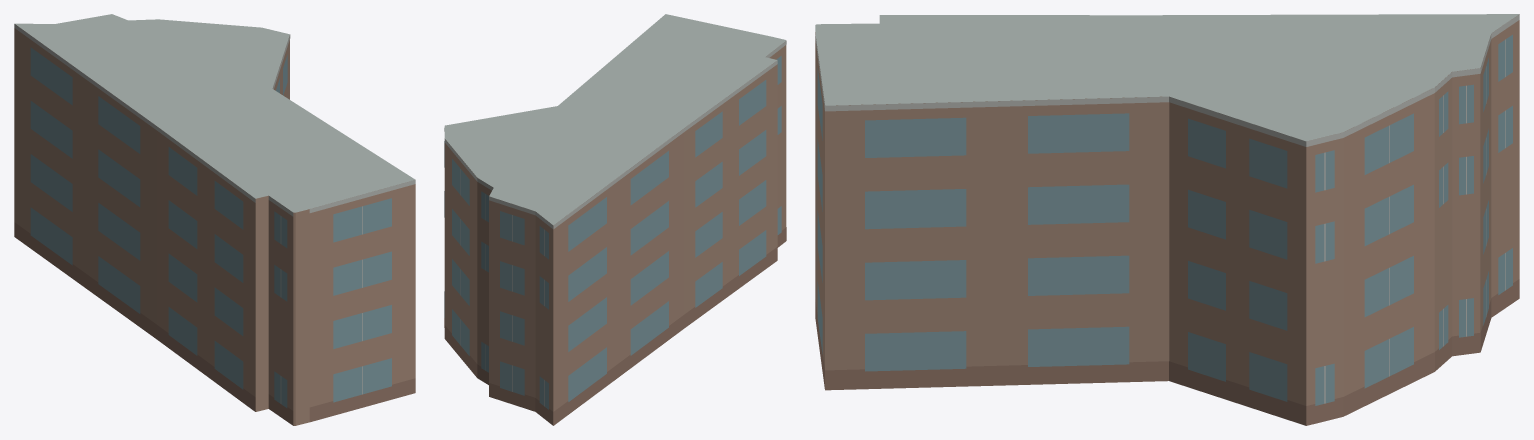
The model's file is survey-upis-33029591.glb.
The picture shows the model from 3 angles, left to right: view 1: azimuth 30°, elevation 25°; view 2: azimuth 150°, elevation 25°; view 3: azimuth 270°, elevation 25°; orthographic projection. The views are drawn at different scales.
Parts seen in each view (by area): view 1: survey-upis-33029591.tmp; view 2: survey-upis-33029591.tmp; view 3: survey-upis-33029591.tmp.
Boxes of the visible parts, box(x1,y1,x2,y2) form: survey-upis-33029591.tmp: box(14, 14, 415, 425); survey-upis-33029591.tmp: box(444, 14, 786, 425); survey-upis-33029591.tmp: box(815, 14, 1519, 425).
Bounding box in the file's own units: 11.73 × 12.2 × 27.38.
